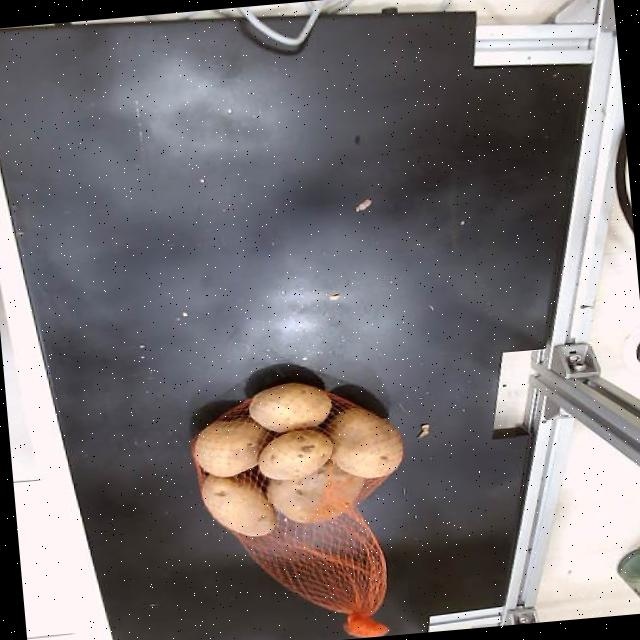potato: (266, 460, 363, 520), (326, 406, 403, 478), (203, 474, 276, 535), (193, 417, 267, 474), (250, 382, 331, 431), (260, 428, 331, 479)
